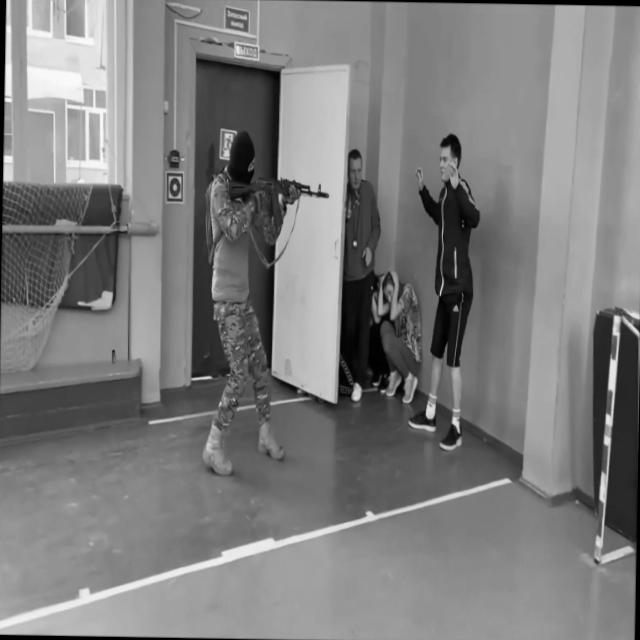gun: (225, 171, 330, 234)
person: (408, 132, 482, 447), (342, 147, 382, 402), (378, 270, 422, 404)
person with a gun: (200, 127, 331, 477)
